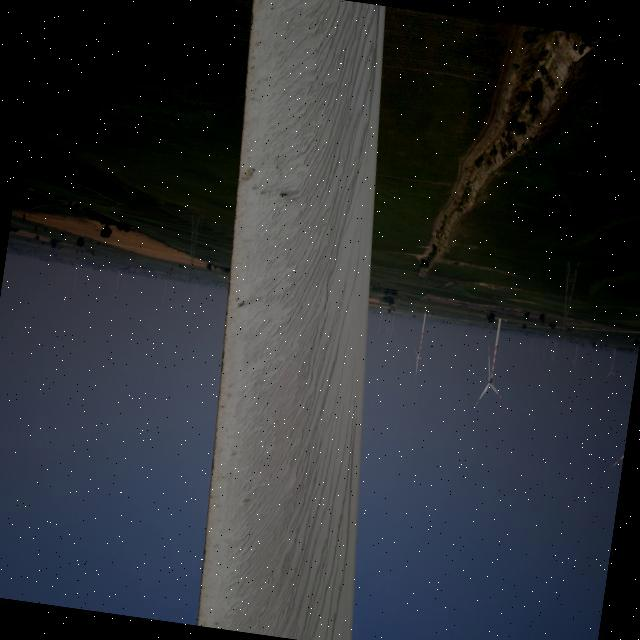Dirt: (199, 0, 389, 638)
Pin Hole: (278, 184, 288, 201), (238, 296, 248, 310)
